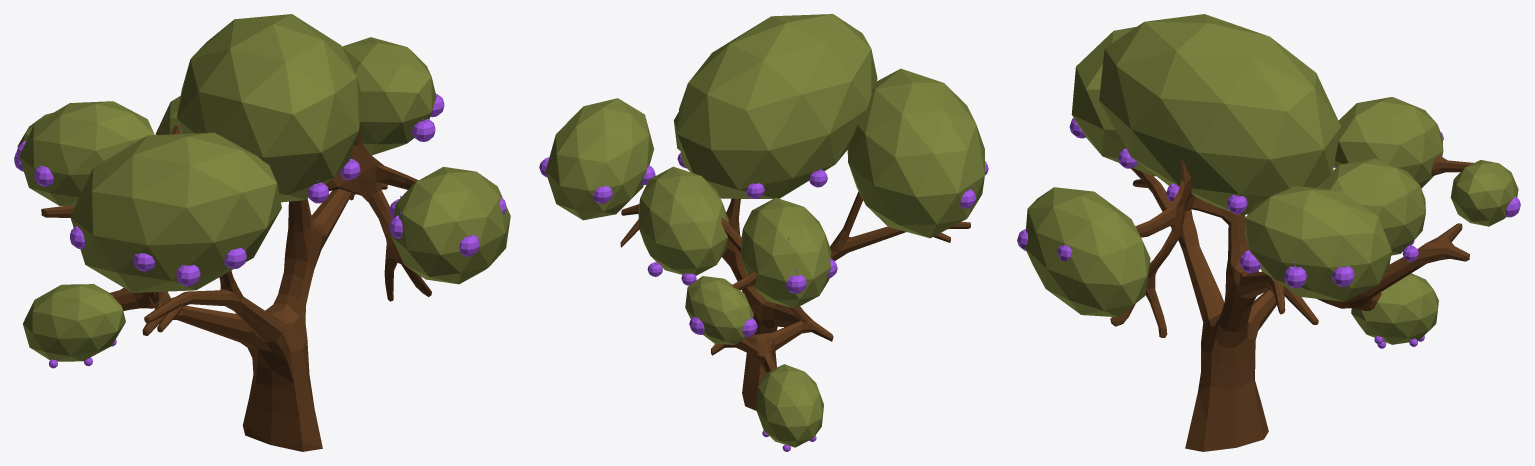
File: tree07.fbx
3 renders of one model, left to right at view 1: azimuth 30°, elevation 25°; view 2: azimuth 150°, elevation 25°; view 3: azimuth 270°, elevation 25°, orthographic. The views are drawn at different scales.
Parts seen in each view (by area): view 1: Plane.024; view 2: Plane.024; view 3: Plane.024.
Boxes of the visible parts, x1=… form: Plane.024: x1=14, y1=14, x2=510, y2=451; Plane.024: x1=539, y1=14, x2=988, y2=451; Plane.024: x1=1017, y1=14, x2=1520, y2=451.
Bounding box in the file's own units: 3.19 × 3.06 × 3.41.
